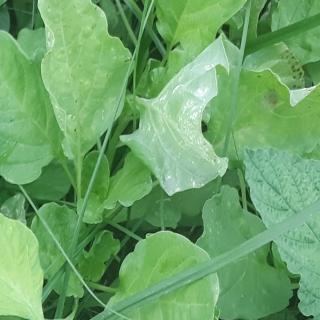karat_putih: (118, 29, 237, 200), (34, 0, 134, 165)
kekurangan_mangan: (258, 40, 318, 112)
